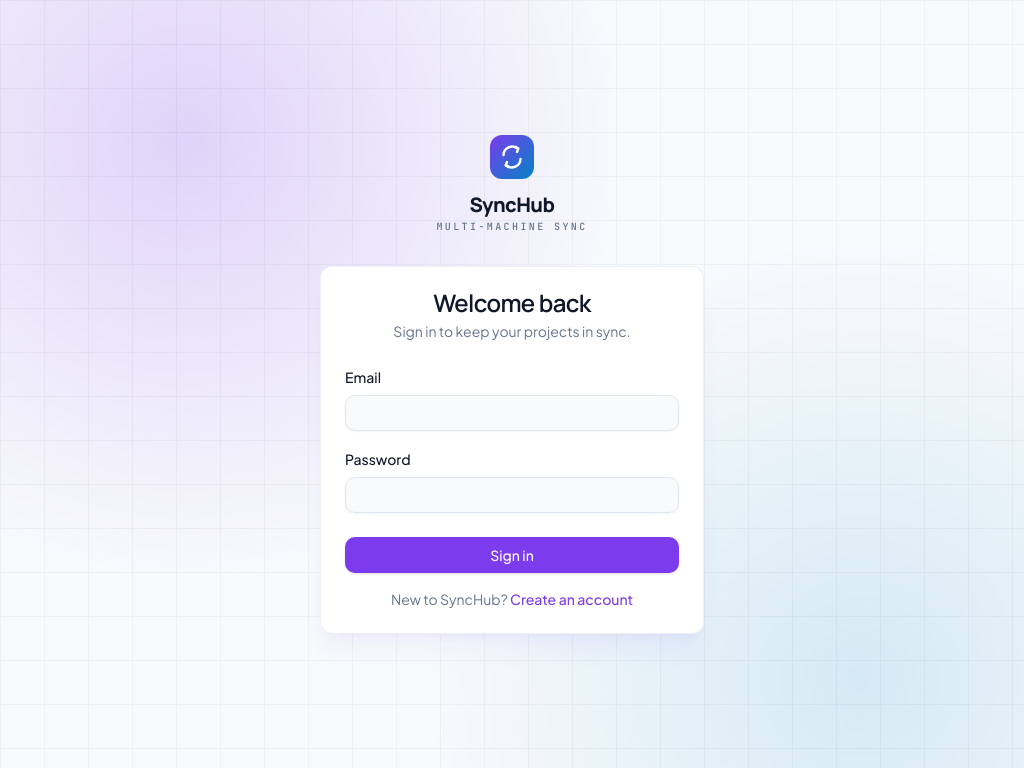
Test case: Login › shows an error message in the form when login rejects with an ApiError
The width and height of the screenshot is (1024, 768).
Type "a@b.com" into the field labelled "Email" at (512, 412), box top-left (345, 394), bottom-right (679, 430)
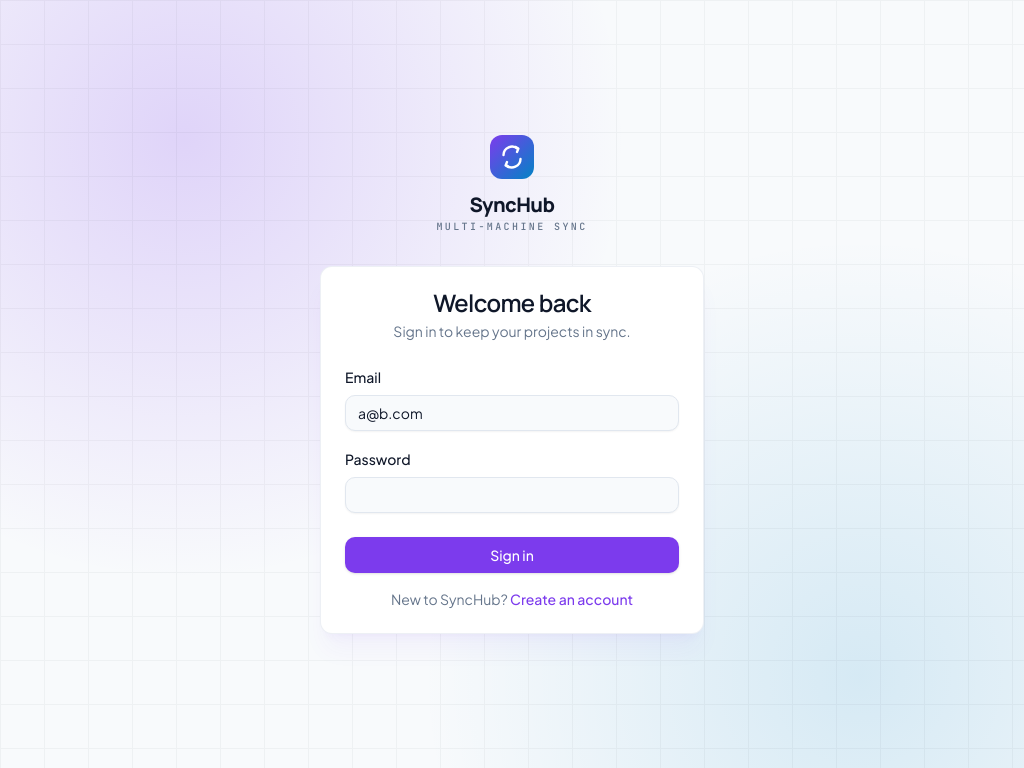
Type "password123" into the password field labelled "Password" at (512, 494), box top-left (345, 476), bottom-right (679, 512)
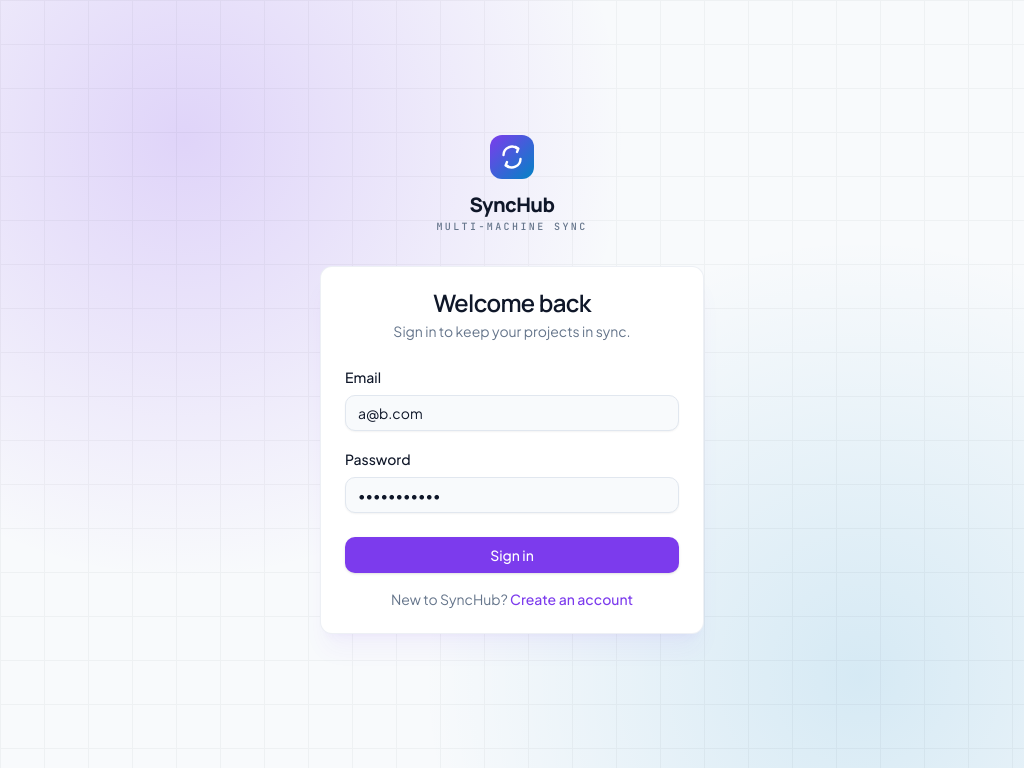
Click the button "Sign in" at (512, 554), box top-left (345, 536), bottom-right (679, 572)
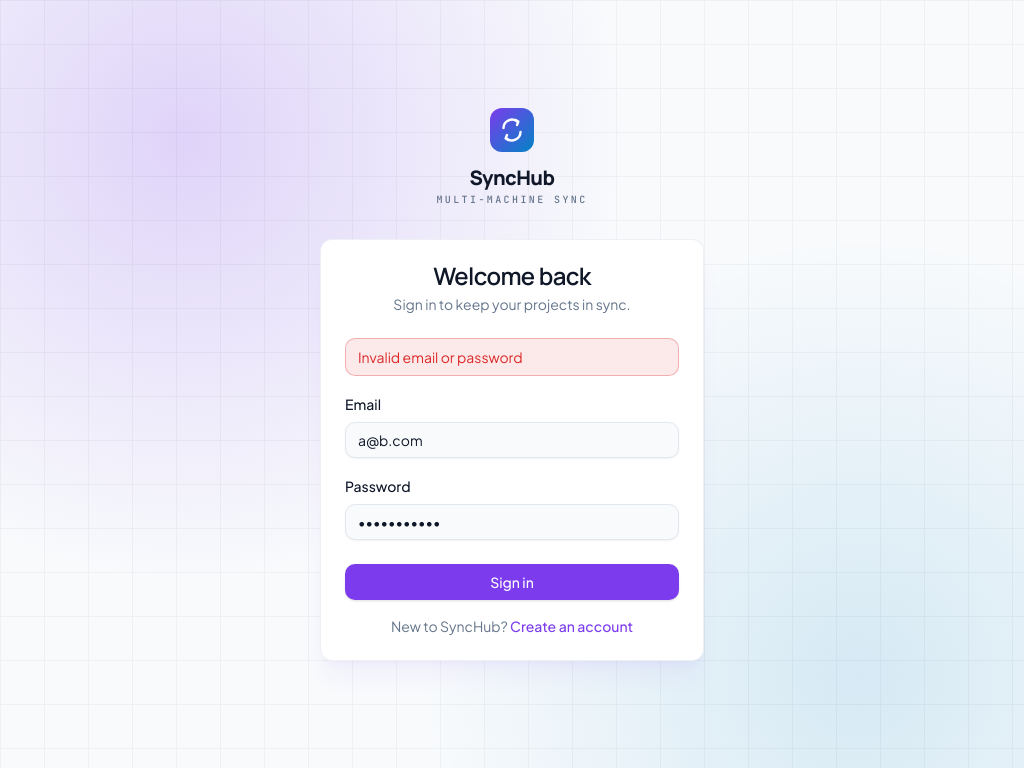
Check: the message reads "Invalid email or password", box top-left (358, 348), bottom-right (523, 366)
